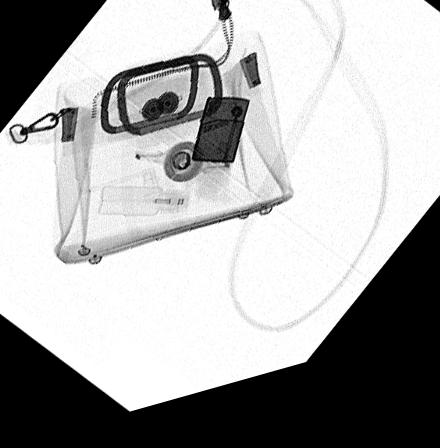Lighter: (189, 106, 250, 175)
